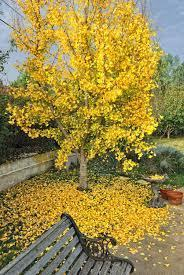tree: (5, 1, 170, 188)
